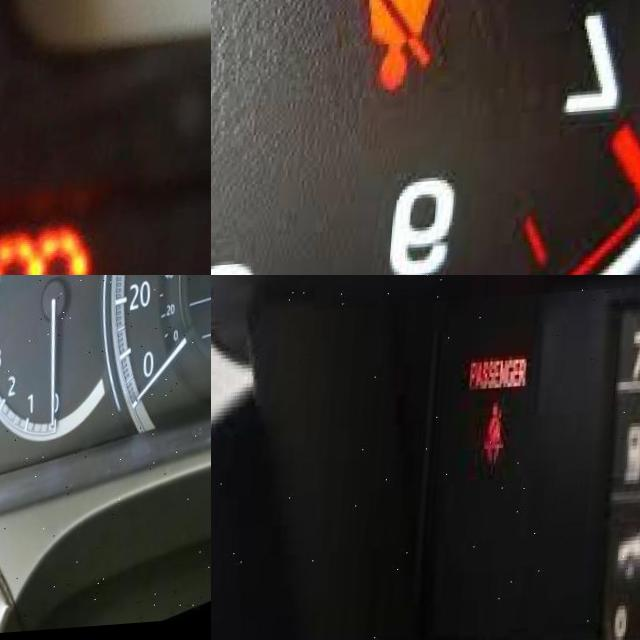Seat Belt: (340, 0, 465, 95), (486, 408, 515, 469)
